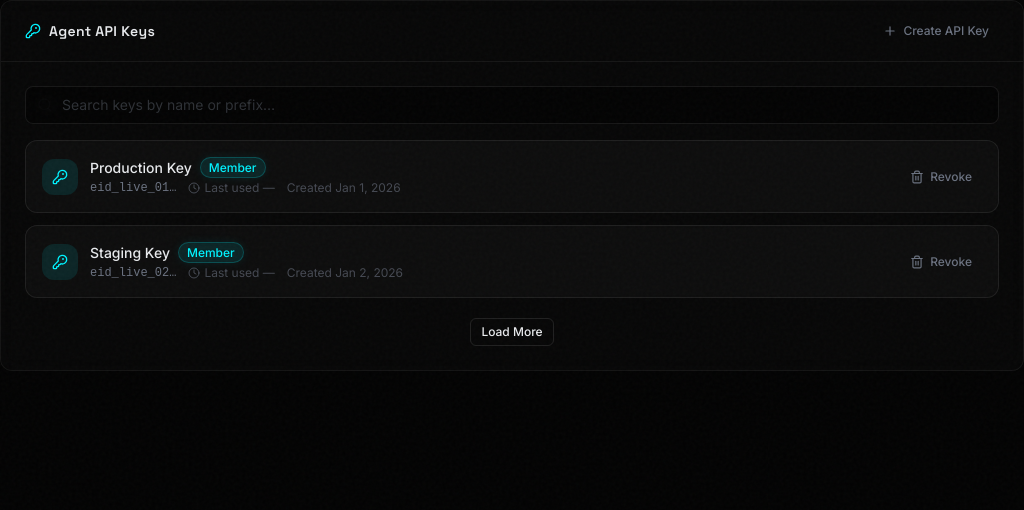
it: Agent API Keys Pagination UI › Load More appends keys › appends new keys to the end of the list without replacing existing keys
Check: the text "Production Key" is shown, box left=90, top=158, right=192, bottom=178
Check: the text "Staging Key" is shown, box left=90, top=242, right=170, bottom=262
Click Load More
Click the button "Load More": (512, 332) left=470, top=318, right=554, bottom=346
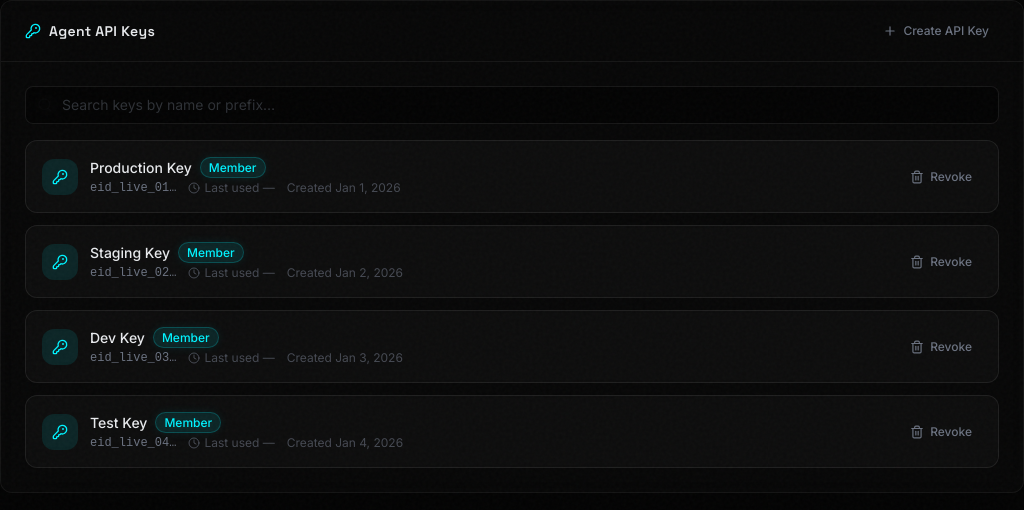
Check: the text "Dev Key" is shown, box left=90, top=328, right=145, bottom=348
Check: the text "Test Key" is shown, box left=90, top=412, right=147, bottom=432
Check: the button "Load More" is gone
